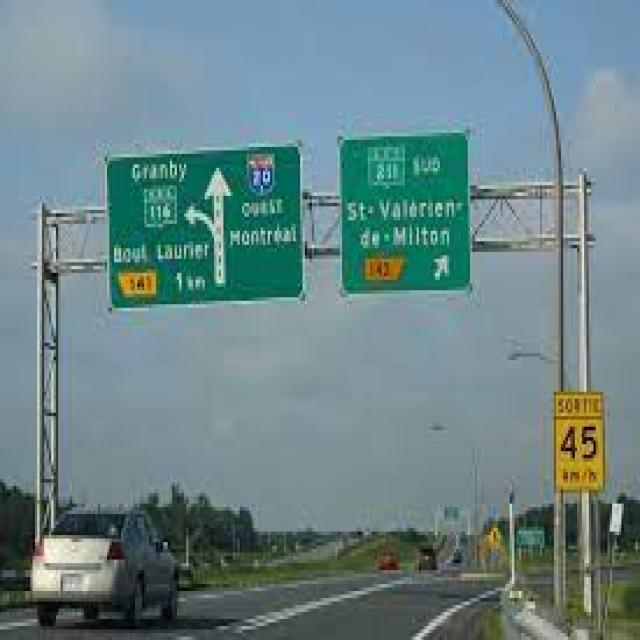street-signs: (104, 139, 308, 314), (336, 127, 470, 299), (517, 528, 544, 548)
